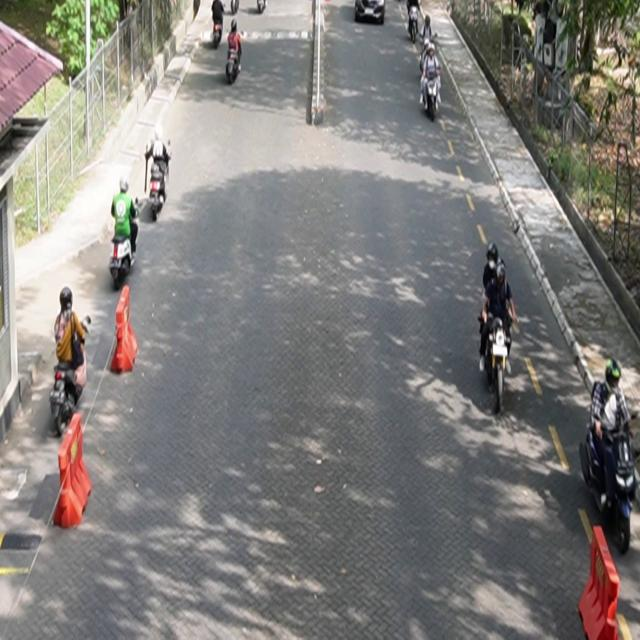car: (355, 1, 386, 25)
